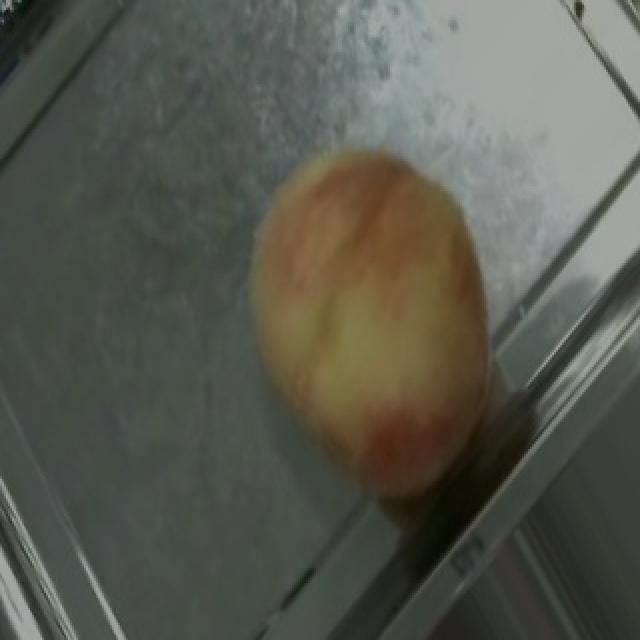Fruit: (204, 102, 540, 533)
